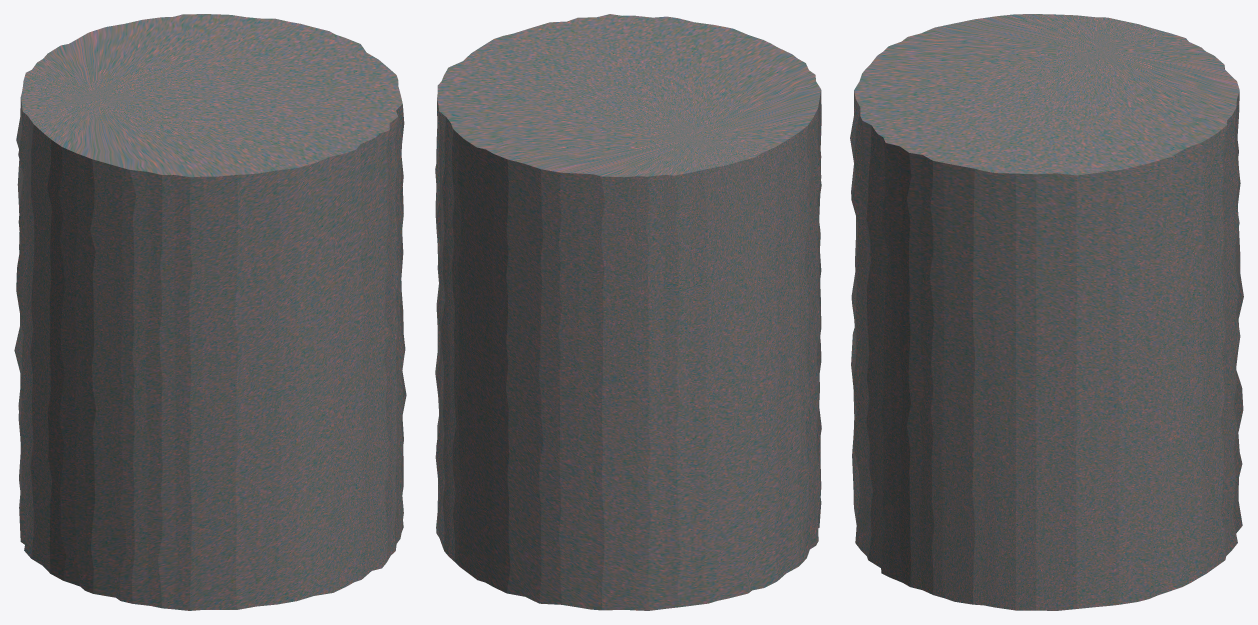
File: barrel_46.dae
The picture shows the model from 3 angles, left to right: view 1: azimuth 30°, elevation 25°; view 2: azimuth 150°, elevation 25°; view 3: azimuth 270°, elevation 25°; orthographic projection.
Parts seen in each view (by area): view 1: Cylinder; view 2: Cylinder; view 3: Cylinder.
Part boxes in pixels (left/top/right/bottom): Cylinder: left=14, top=14, right=406, bottom=610; Cylinder: left=435, top=14, right=821, bottom=610; Cylinder: left=850, top=14, right=1243, bottom=610.
Size of the model in its own units: 0.8125 by 0.8202 by 1.
1 material, 1 textured.
